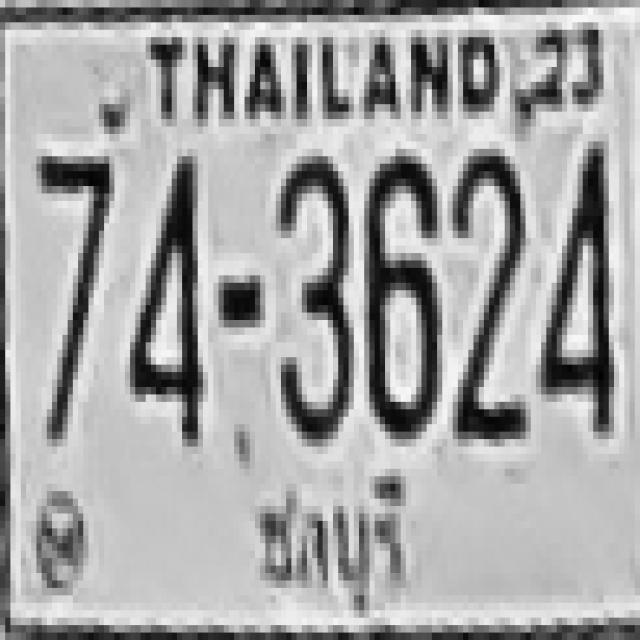2: (448, 145, 520, 435)
3: (276, 149, 348, 439)
4: (536, 138, 609, 428), (125, 149, 198, 439)
6: (362, 148, 434, 432)
7: (34, 149, 112, 439)
Chonburi: (237, 462, 425, 624)
